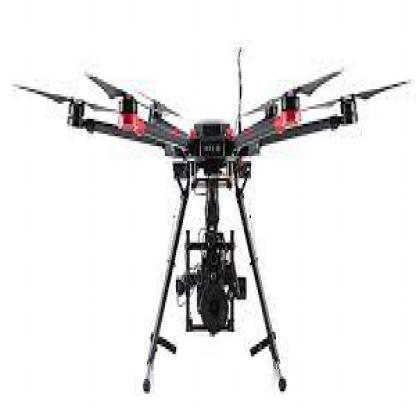UAS: (13, 47, 409, 394)
